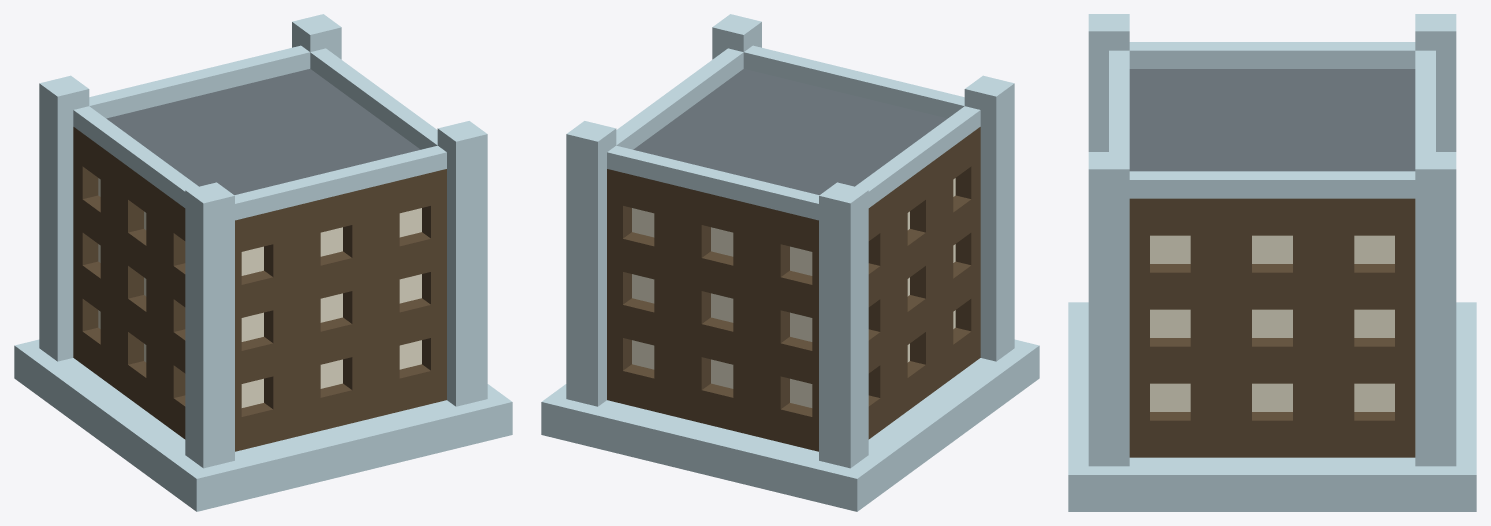
File: Building_11_Base (Brown).obj
3 renders of one model, left to right at view 1: azimuth 30°, elevation 25°; view 2: azimuth 150°, elevation 25°; view 3: azimuth 270°, elevation 25°, orthographic. The views are drawn at different scales.
Parts seen in each view (by area): view 1: Building_11_Base_(Brown); view 2: Building_11_Base_(Brown); view 3: Building_11_Base_(Brown).
Part boxes in pixels (bbox=[...]): Building_11_Base_(Brown): bbox=[14, 14, 512, 511]; Building_11_Base_(Brown): bbox=[541, 14, 1039, 511]; Building_11_Base_(Brown): bbox=[1068, 14, 1476, 511].
Size of the model in its own units: 2 by 1.8 by 2.
